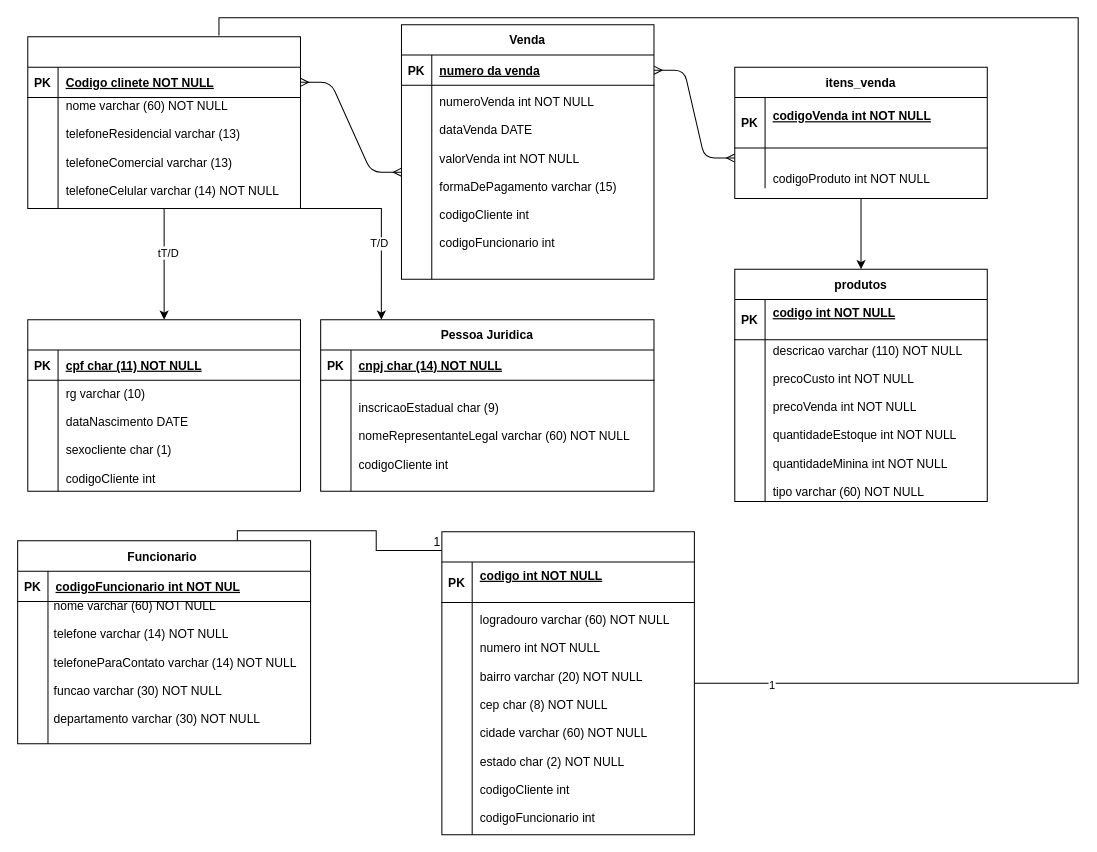
The diagram is 1097 pixels wide and 852 high, and some of its shapes have lost their labels. Here are the shapes that lost their labels. From the top down, the box of each, then its label:
(27, 36, 300, 209): Cliente
(27, 319, 300, 491): Pesssoa Fisica
(441, 531, 694, 835): Endereço
